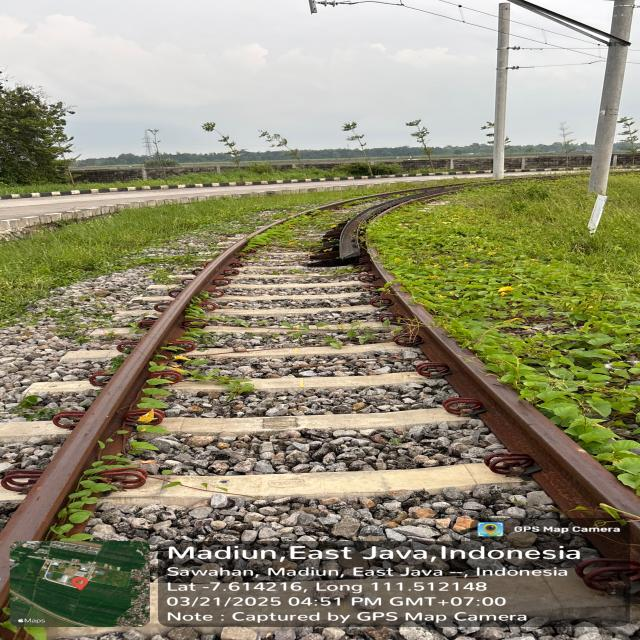rail-detection: (0, 232, 259, 594), (393, 290, 640, 514), (338, 184, 480, 264), (315, 190, 411, 210), (248, 210, 311, 238), (591, 526, 640, 559), (415, 183, 472, 197), (481, 181, 500, 185)
